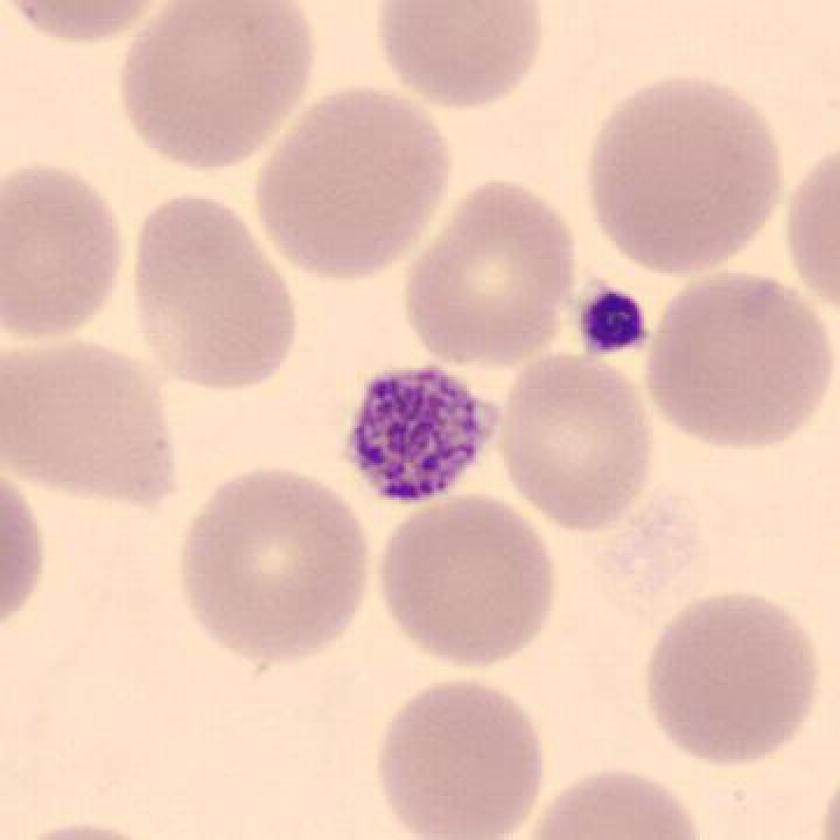platelets: (335, 355, 505, 510), (568, 277, 664, 372)
